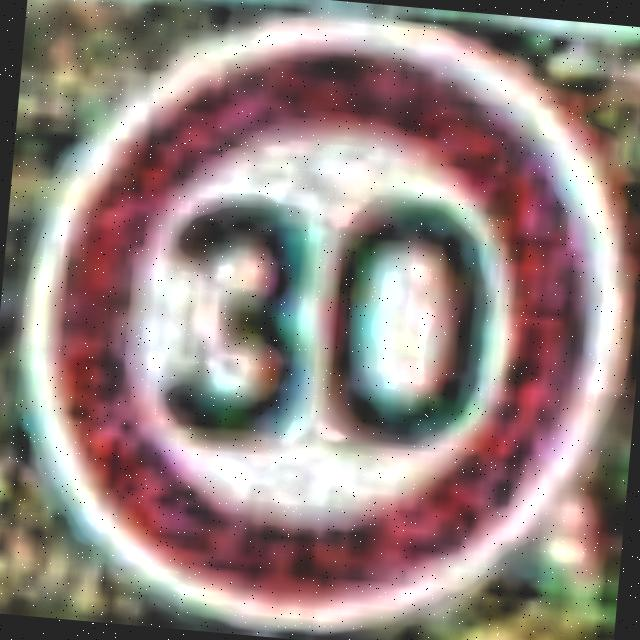speed_30: (25, 16, 632, 636)
